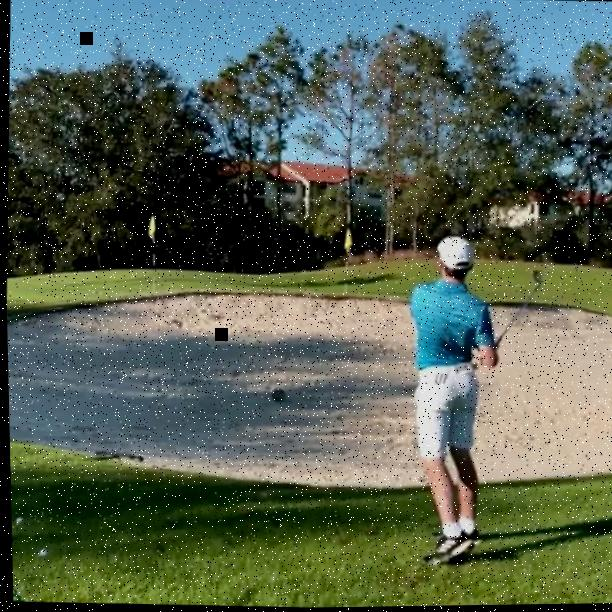ClubHead: (531, 271, 543, 286)
GolfBall: (36, 549, 46, 557), (14, 516, 23, 524)
